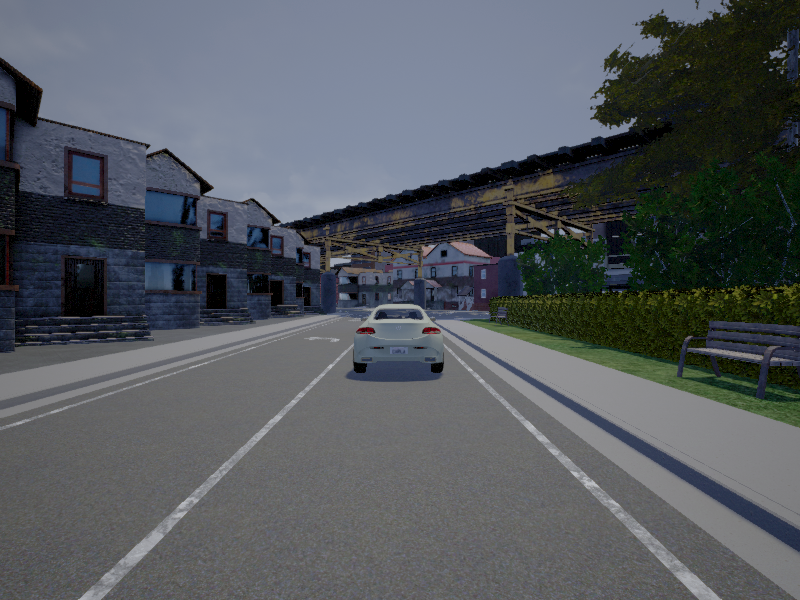Benign: (354, 300, 445, 377)
